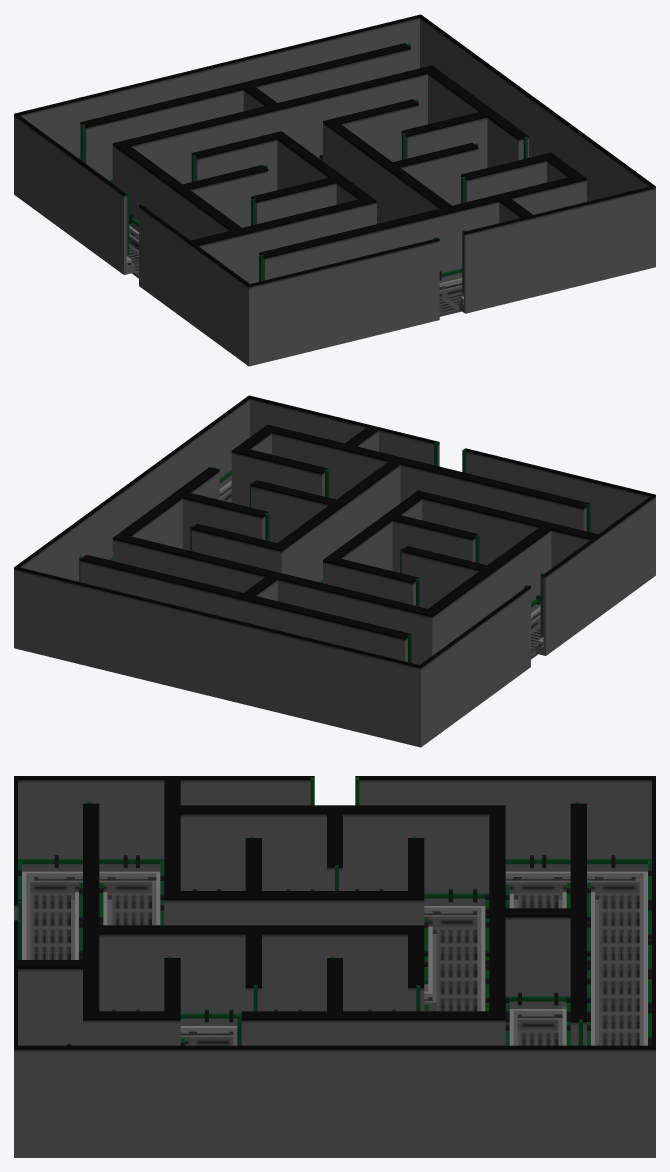
Rendered from Level02pt2.fbx.
3 views of the same model, one above another, from view 1: azimuth 30°, elevation 25°; view 2: azimuth 150°, elevation 25°; view 3: azimuth 270°, elevation 25° (orthographic). The views are drawn at different scales.
Visible parts, largest first — view 1: Union_1; view 2: Union_1; view 3: Union_1.
Boxes of the visible parts, x1,y1,x2,y2 form: Union_1: (14,14,655,366); Union_1: (14,395,655,747); Union_1: (14,776,655,1157).
Bounding box in the file's own units: 158 × 31 × 158.
